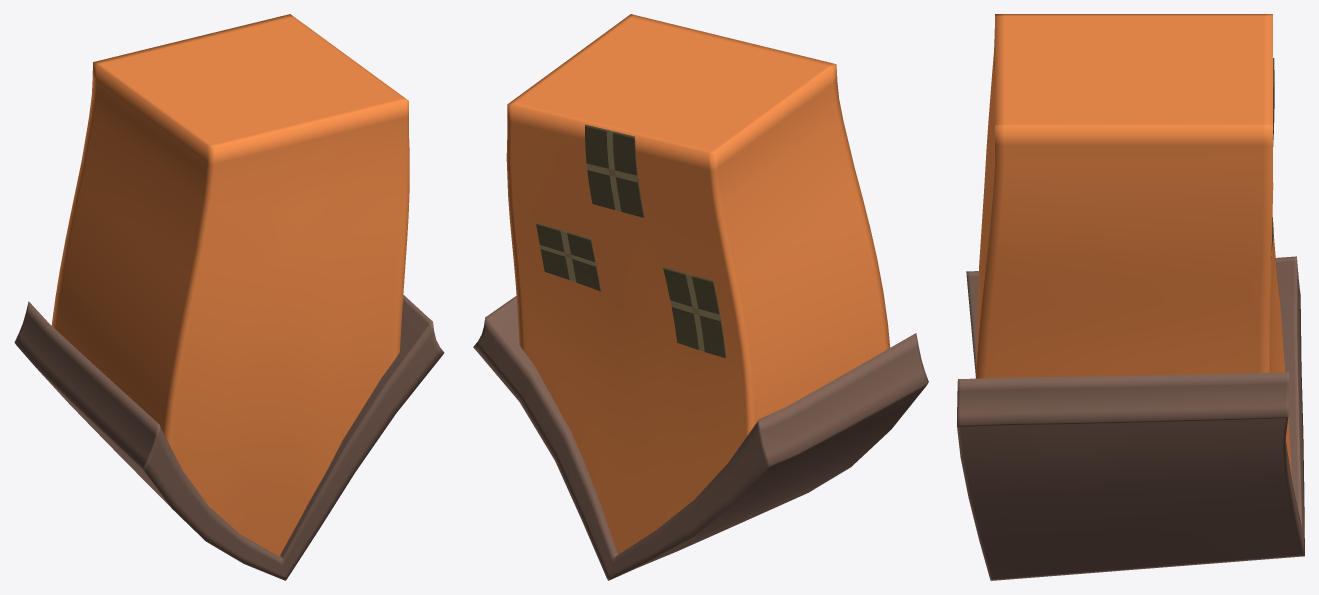
Rendered from house2.fbx.
The picture shows the model from 3 angles, left to right: view 1: azimuth 30°, elevation 25°; view 2: azimuth 150°, elevation 25°; view 3: azimuth 270°, elevation 25°; orthographic projection. The views are drawn at different scales.
Visible parts, largest first — view 1: house.003; view 2: house.003; view 3: house.003.
Boxes of the visible parts, x1=… form: house.003: x1=14, y1=14, x2=444, y2=580; house.003: x1=473, y1=14, x2=928, y2=580; house.003: x1=957, y1=14, x2=1304, y2=580.
Bounding box in the file's own units: 107 × 151 × 90.87.
